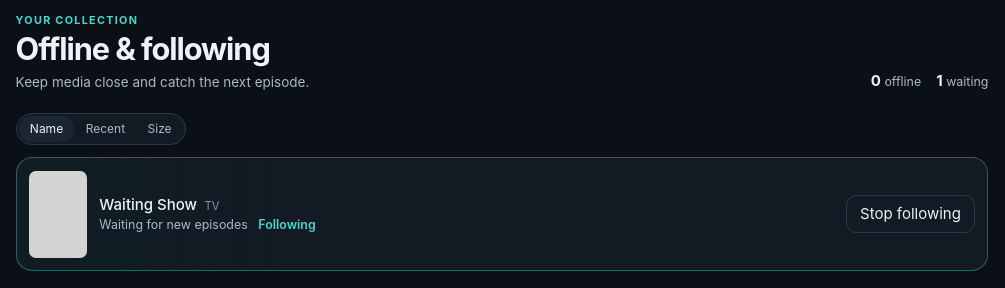
Test: SyncedView followed titles › keeps a zero-offline show visible until Stop following is chosen
Click the button with test id "follow-title".
click(910, 214)  # box x1=846 y1=195 x2=975 y2=234
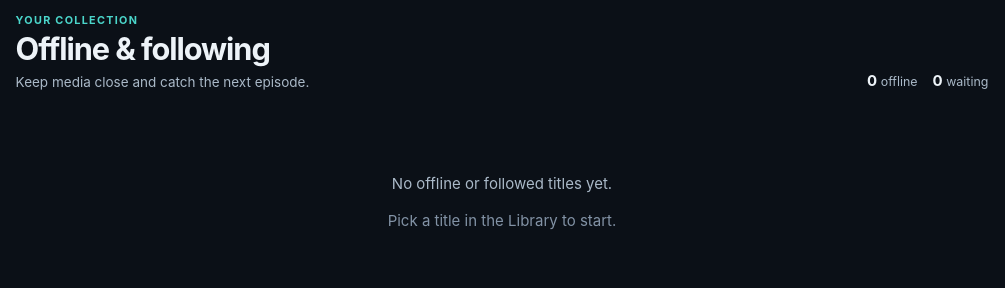
Result: the text "Waiting Show" is gone
